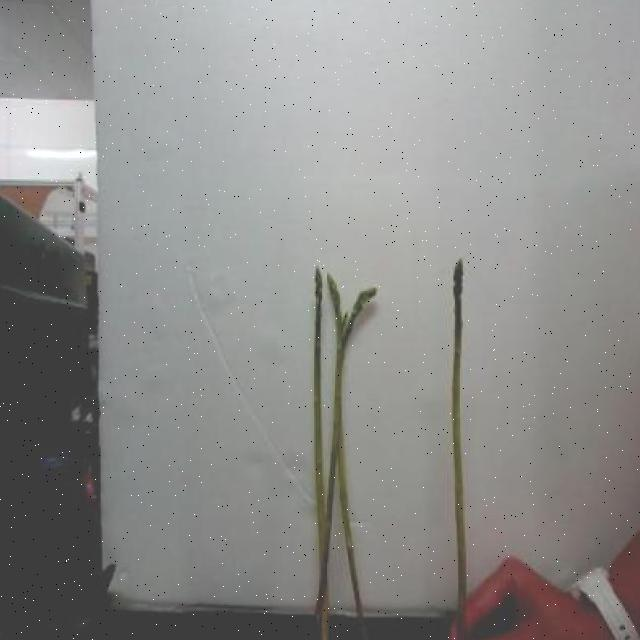aspargus: (451, 260, 469, 607)
